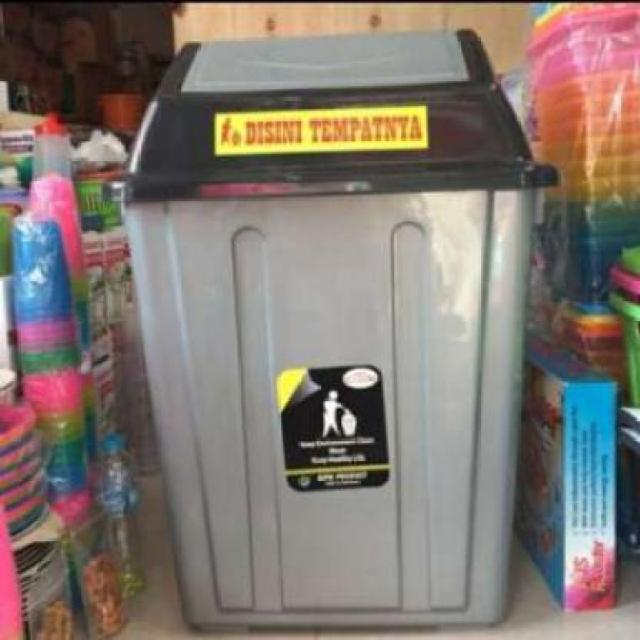garbage container: (112, 24, 566, 638)
